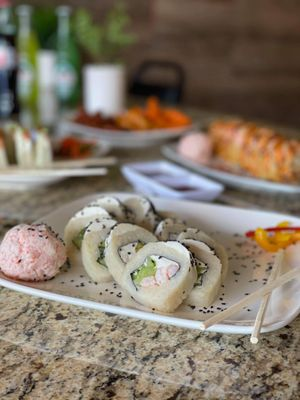pizza: (81, 60, 128, 120)
